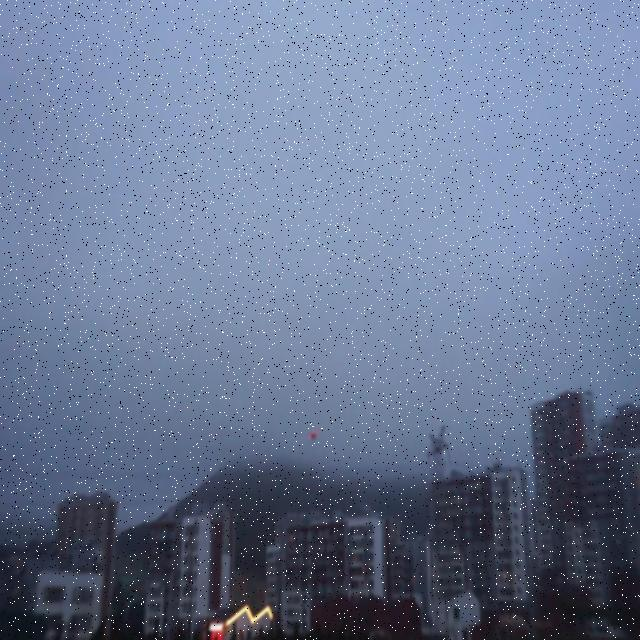UAV: (308, 429, 320, 441)
